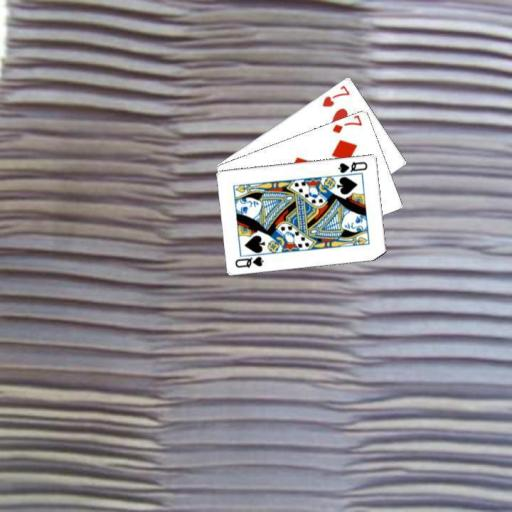card-corner: (320, 82, 352, 108), (330, 113, 364, 134), (335, 158, 369, 174), (232, 253, 265, 269)
